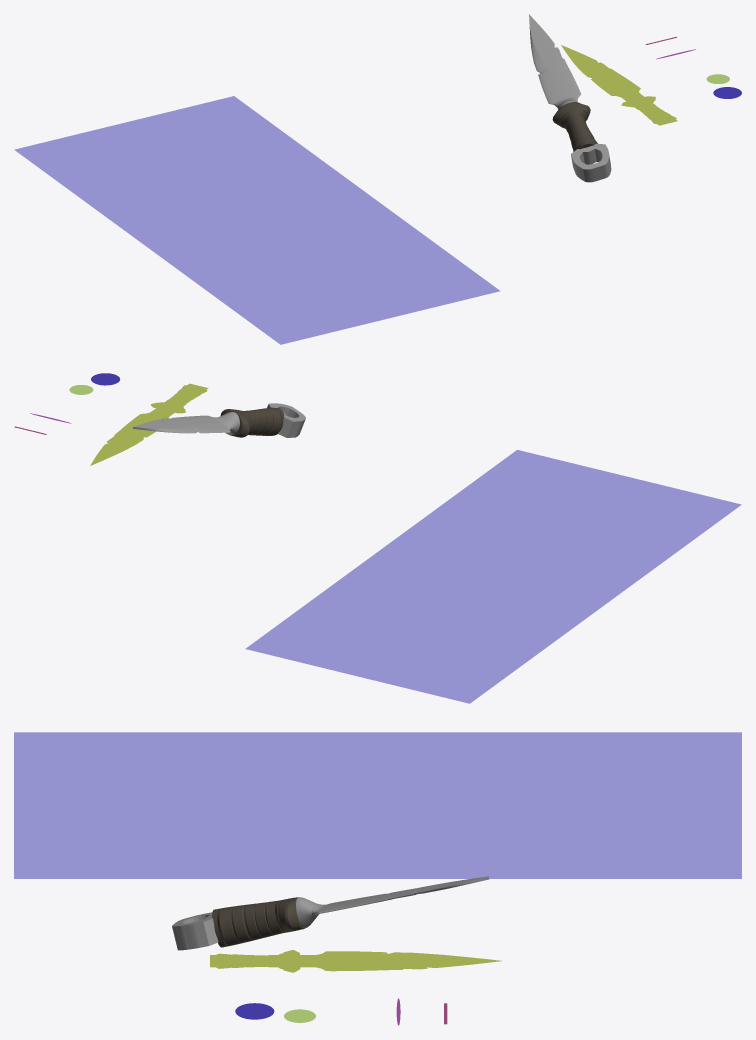
3 renders of one model, top to bottom at view 1: azimuth 30°, elevation 25°; view 2: azimuth 150°, elevation 25°; view 3: azimuth 270°, elevation 25°, orthographic. The views are drawn at different scales.
Visible parts, largest first — view 1: Plane001, Object001, Line001, Loft001, Line003; view 2: Plane001, Line001, Object001, Loft001, Line003; view 3: Plane001, Line001, Loft001, Object001, Line003, Circle002.
Boxes of the visible parts, x1,y1,x2,y2 form: Plane001: (14, 96, 500, 344); Object001: (529, 14, 581, 109); Line001: (561, 45, 677, 125); Loft001: (552, 102, 597, 151); Line003: (571, 143, 611, 182); Plane001: (245, 450, 741, 703); Line001: (90, 383, 208, 465); Object001: (132, 412, 239, 435); Loft001: (220, 407, 284, 437); Line003: (267, 403, 305, 437); Plane001: (14, 732, 741, 878); Line001: (210, 950, 501, 972); Loft001: (212, 897, 304, 947); Object001: (296, 876, 489, 928); Line003: (172, 912, 218, 950); Circle002: (235, 1003, 274, 1019).
Size of the model in its own units: 10.42 by 1.8 by 8.64.
